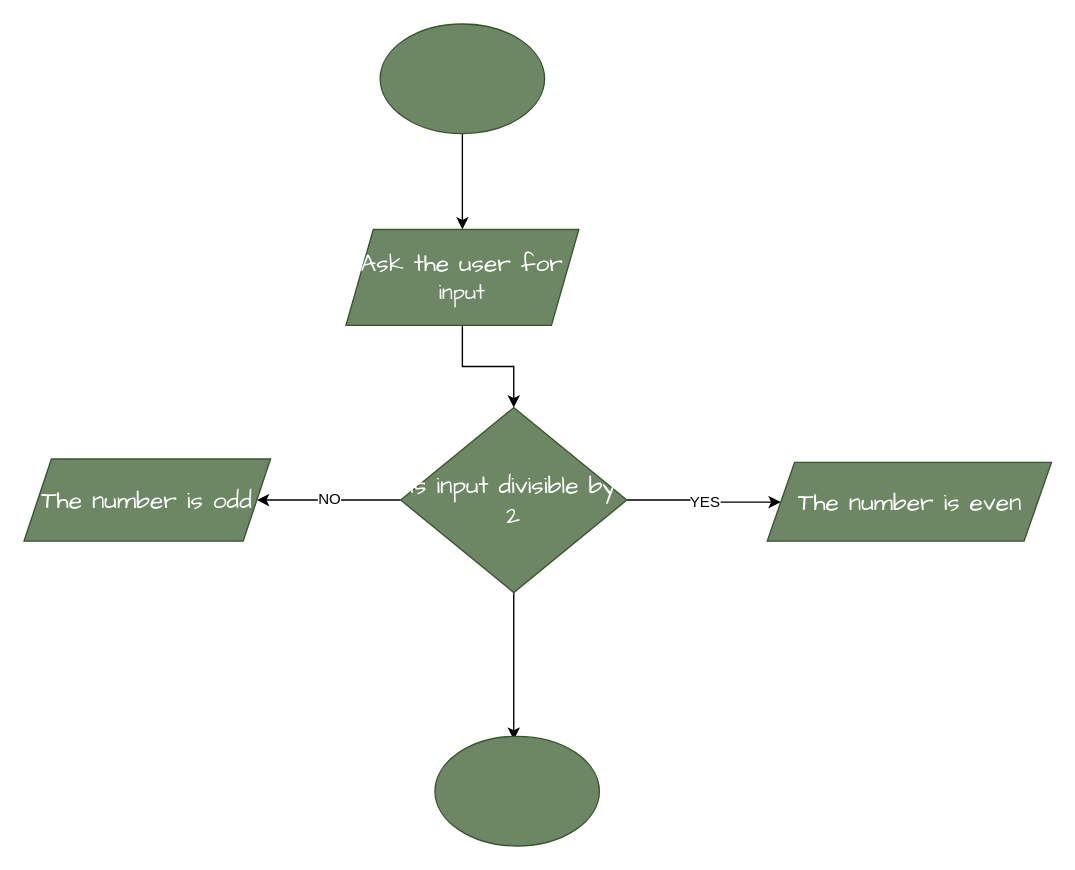
Image size: 1075x870. Some labels were removed from this diagram. Each missing label, with the box of its shape:
End Program: (434, 735, 599, 846)
START: (379, 23, 545, 134)
